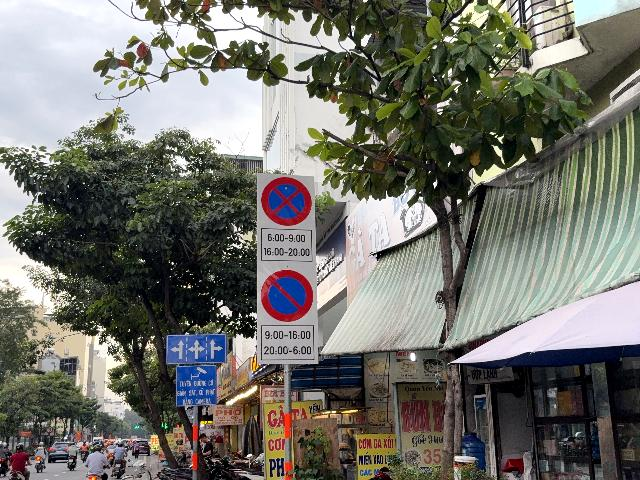cam-do-xe: (260, 269, 314, 322)
cam-dung-va-do-xe: (261, 177, 312, 226)
